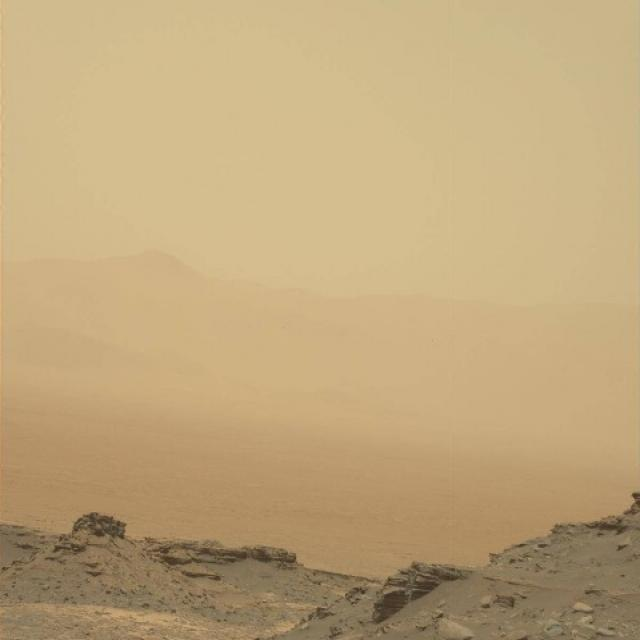rock: (142, 528, 302, 586), (371, 556, 473, 627), (74, 512, 124, 550)
